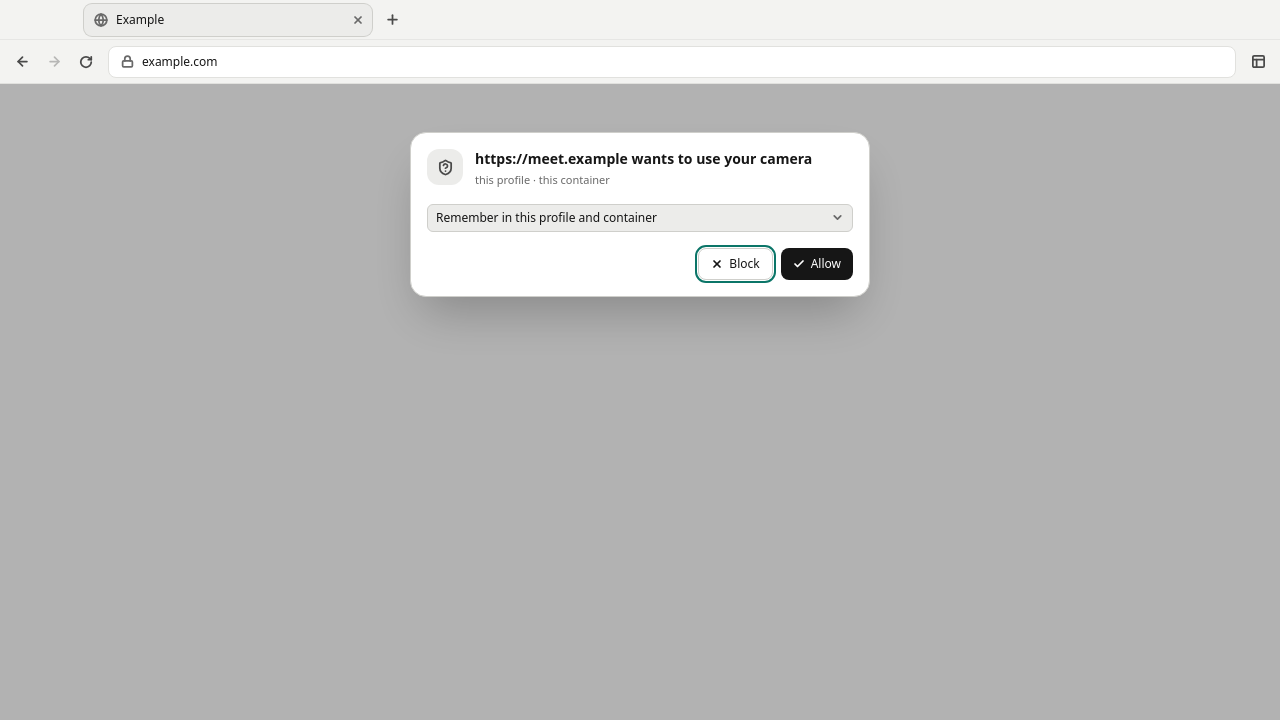
Test: detached window prompts › asks its own page's permission questions and answers them for that tab
Expected: the dialog shows "https://meet.example wants to use your camera", 410,132 -> 870,297
Click the button "Allow" at [817, 264], box 781,248 -> 853,280
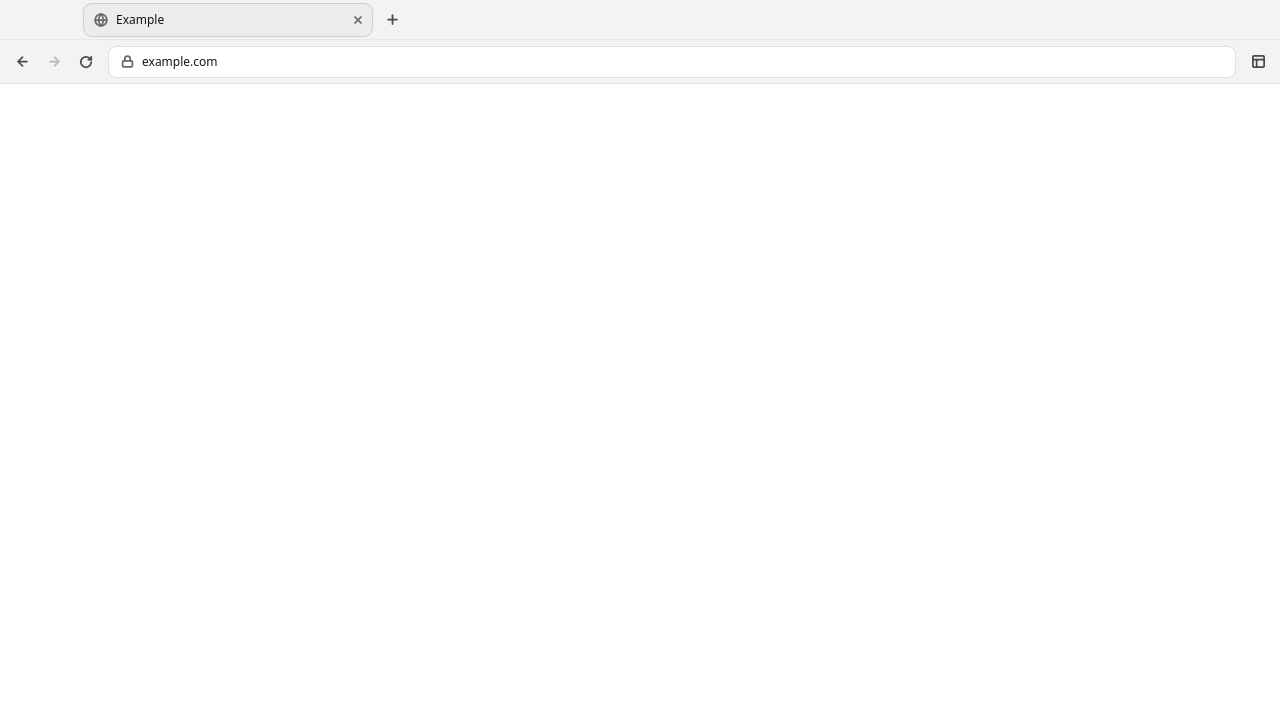
Expected: the dialog is gone
